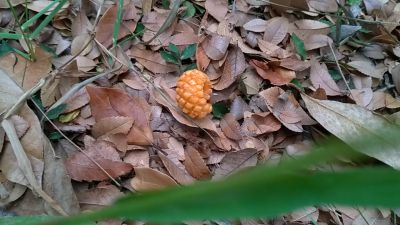eggs: (173, 67, 216, 122)
